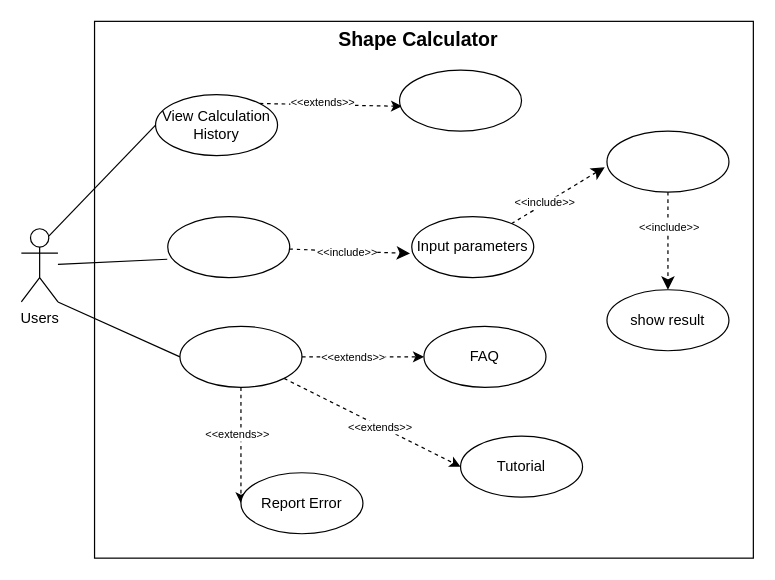
Some shapes in this 775 by 580 pixel diagram are drawn without their labels. Here are the shapes that lost their labels. From the top down, the box of each, then its label:
(398, 69, 522, 131): Delete History
(606, 130, 729, 192): Perform Calculation
(167, 215, 290, 278): Shape selection
(179, 325, 302, 387): Get Help
